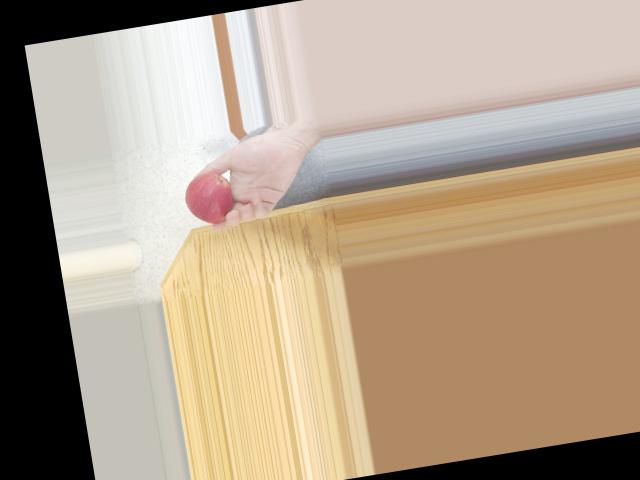apple: (179, 168, 237, 226)
